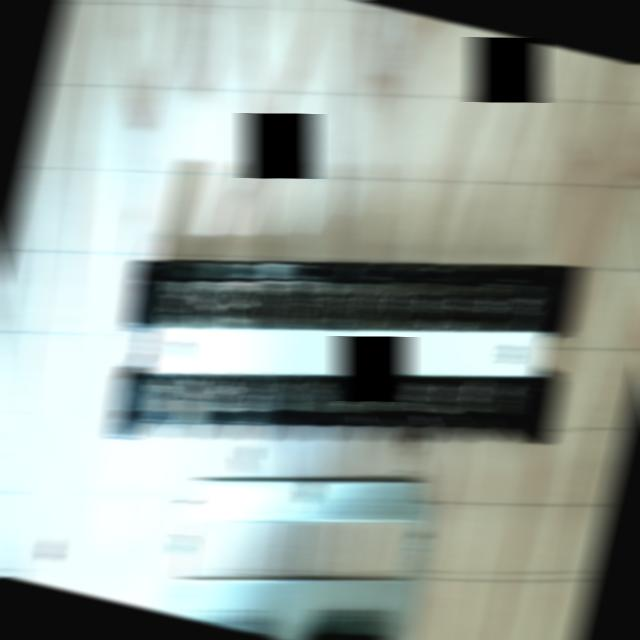Phillips_Block: (109, 262, 582, 441)
